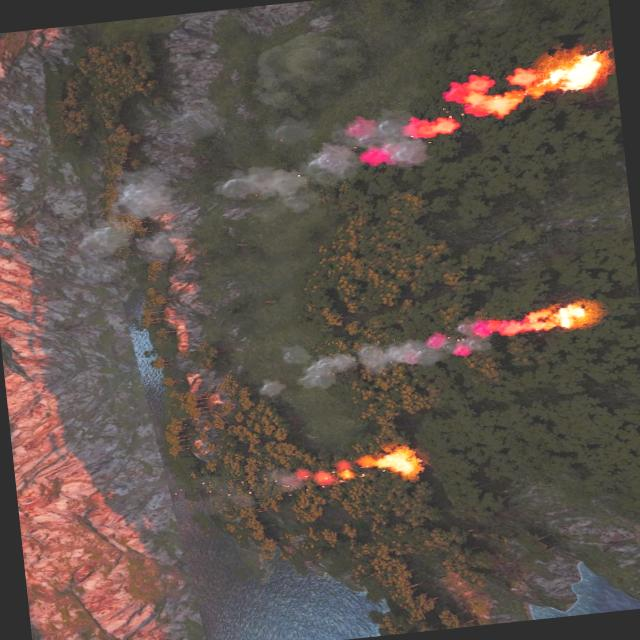fire: (544, 45, 614, 92), (371, 444, 422, 478), (404, 110, 460, 140), (552, 299, 594, 329)
smoke: (208, 66, 555, 227), (250, 306, 550, 400), (259, 447, 370, 496)
